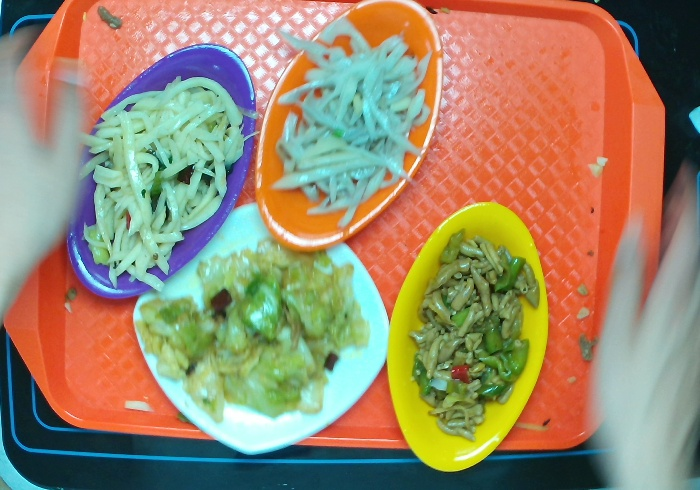RJxy-Fen_Hong_Tuo_Yuan: (65, 41, 258, 300)
RJxy-Huang_Se_Tuo_Yuan: (385, 200, 550, 473)
RJxy-Ju_Huang_Tuo_Yuan: (253, 1, 445, 254)
RJxy-Si_Fang_Die: (131, 200, 391, 456)
